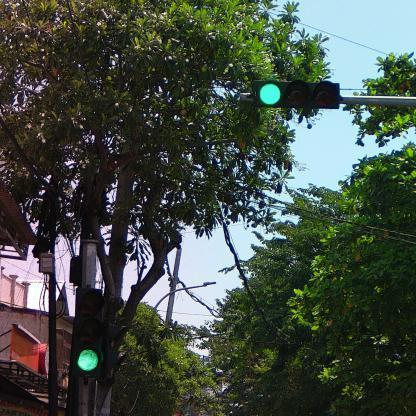green: (254, 78, 344, 110), (73, 288, 103, 378)
